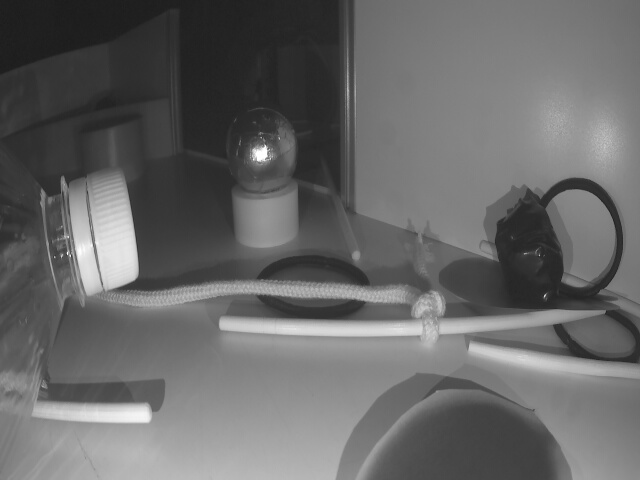Dead: (493, 191, 561, 305)
Live: (225, 105, 298, 193)
Point: (0, 93, 165, 189)
